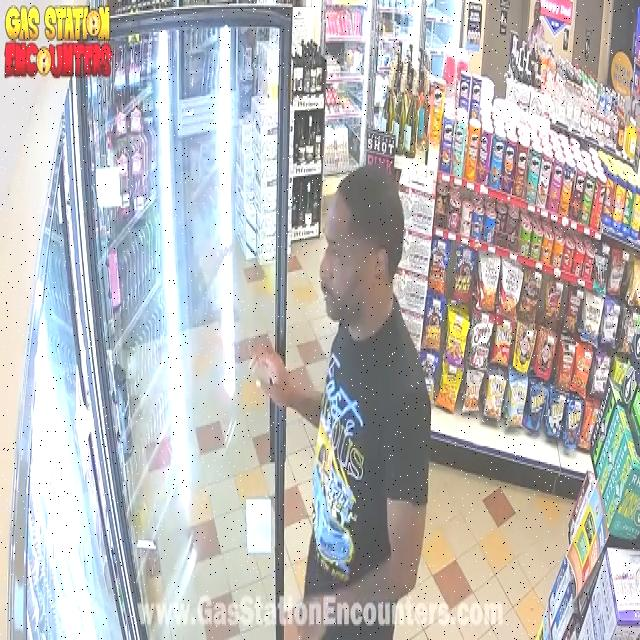hands: (251, 347, 318, 420)
person: (253, 165, 430, 638)
